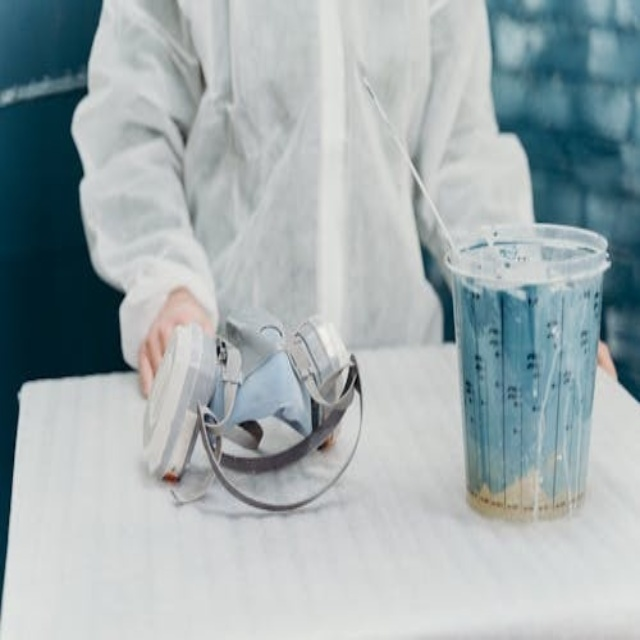Sin_guantes: (135, 284, 213, 401)
